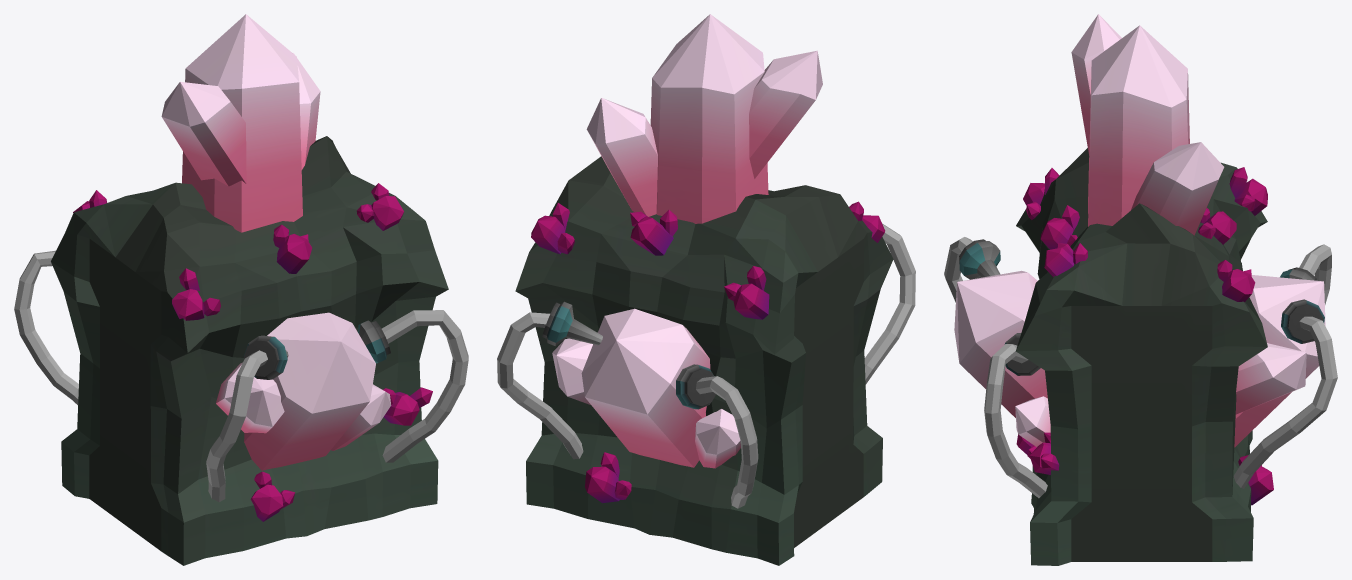
Rendered from Filler Nuevo.fbx.
3 views of the same model, side by side, from view 1: azimuth 30°, elevation 25°; view 2: azimuth 150°, elevation 25°; view 3: azimuth 270°, elevation 25° (orthographic).
Visible parts, largest first — view 1: Pared_Piedra, Cristal_Filler, Tube_Filler; view 2: Pared_Piedra, Cristal_Filler, Tube_Filler; view 3: Pared_Piedra, Cristal_Filler, Tube_Filler.
Boxes of the visible parts, box(x1,y1,x2,y2) form: Pared_Piedra: box(51, 136, 448, 565); Cristal_Filler: box(161, 14, 391, 470); Tube_Filler: box(14, 250, 468, 502); Pared_Piedra: box(515, 156, 893, 565); Cristal_Filler: box(552, 14, 822, 468); Tube_Filler: box(497, 223, 915, 508); Pared_Piedra: box(959, 148, 1324, 565); Cristal_Filler: box(954, 14, 1325, 447); Tube_Filler: box(944, 237, 1337, 498).
Bounding box in the file's own units: 115 × 186 × 139.
